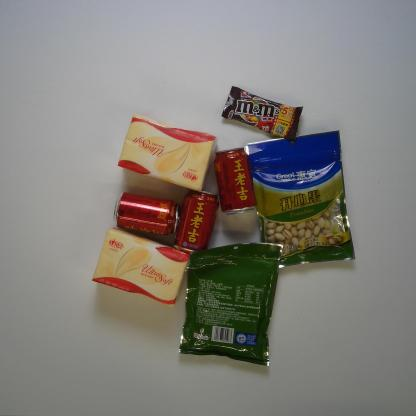Chocolate: (219, 84, 304, 142)
Dried Fruit: (244, 126, 361, 273), (178, 240, 285, 370)
Drink: (165, 186, 222, 254), (112, 188, 184, 237), (215, 145, 259, 216)
Tissue: (90, 226, 192, 308), (116, 114, 219, 191)
